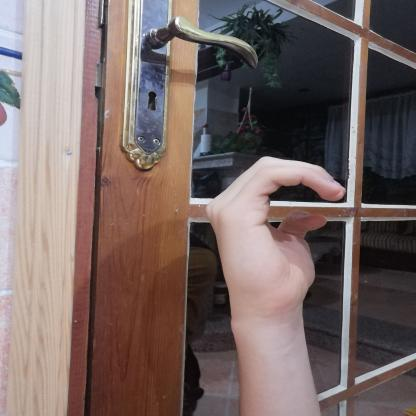JEEM: (191, 146, 362, 324)
